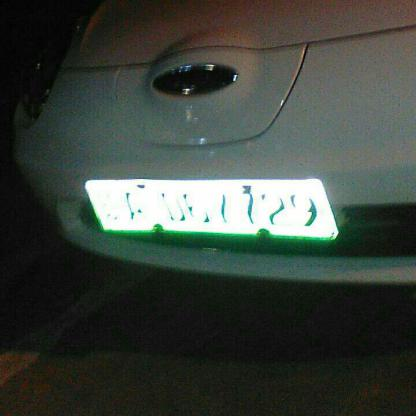lp: (84, 180, 336, 236)
